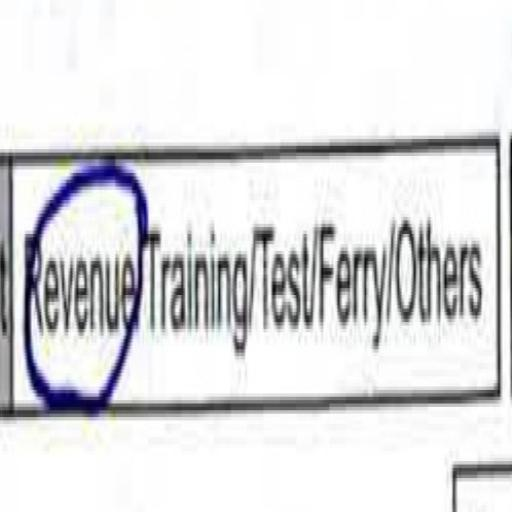check: (20, 132, 146, 480)
